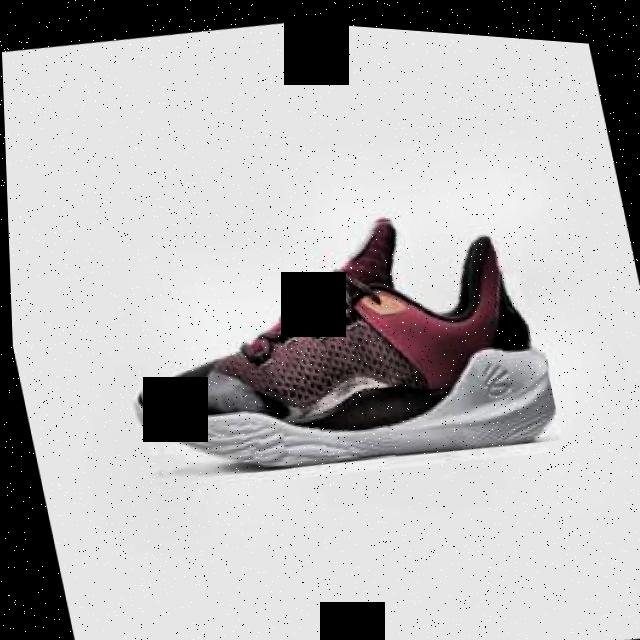shoe: (95, 171, 561, 504)
